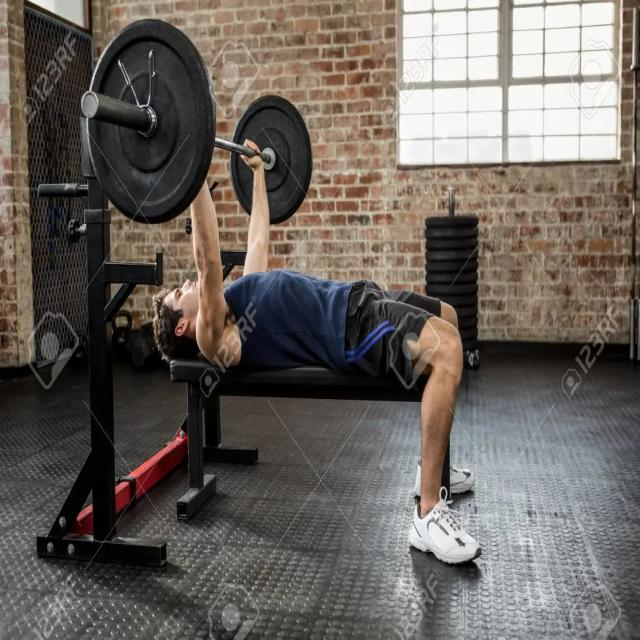barbell_plate_side: (80, 17, 138, 227), (255, 17, 313, 227)
